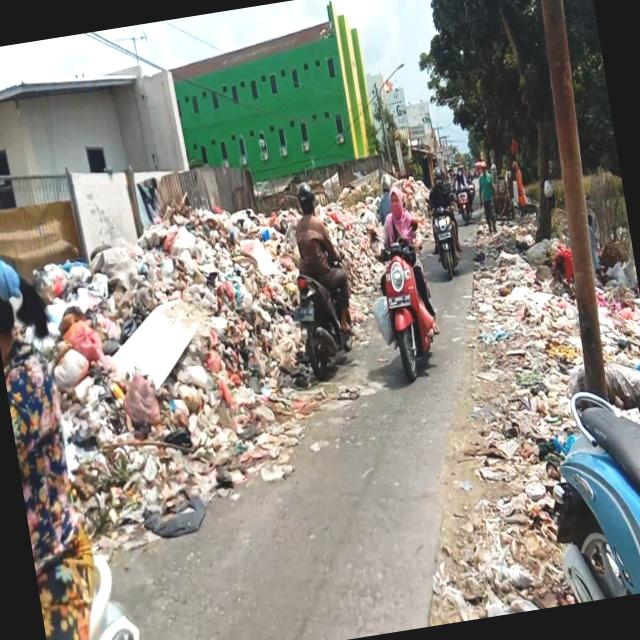garbage: (0, 182, 394, 519), (447, 223, 640, 614)
